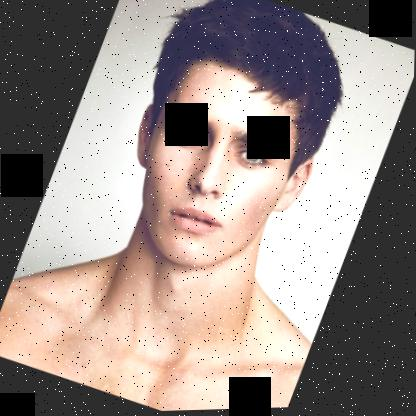Male: (97, 45, 337, 295)
